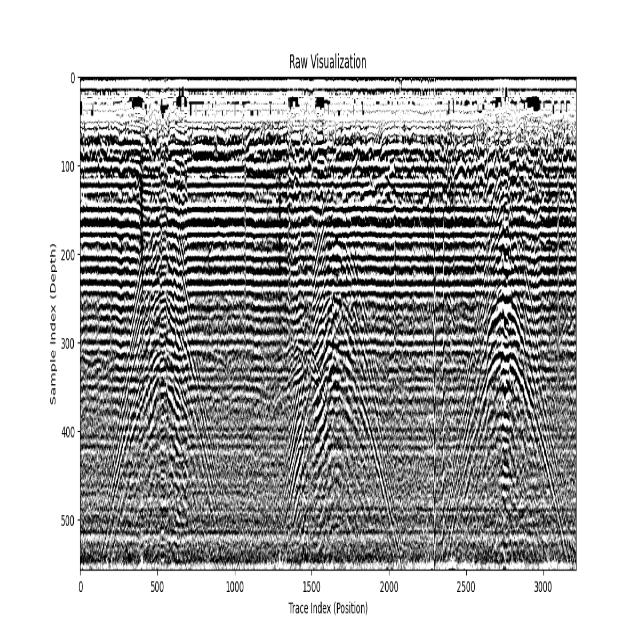anomaly: (91, 171, 235, 570), (433, 182, 573, 567), (267, 190, 405, 572)
